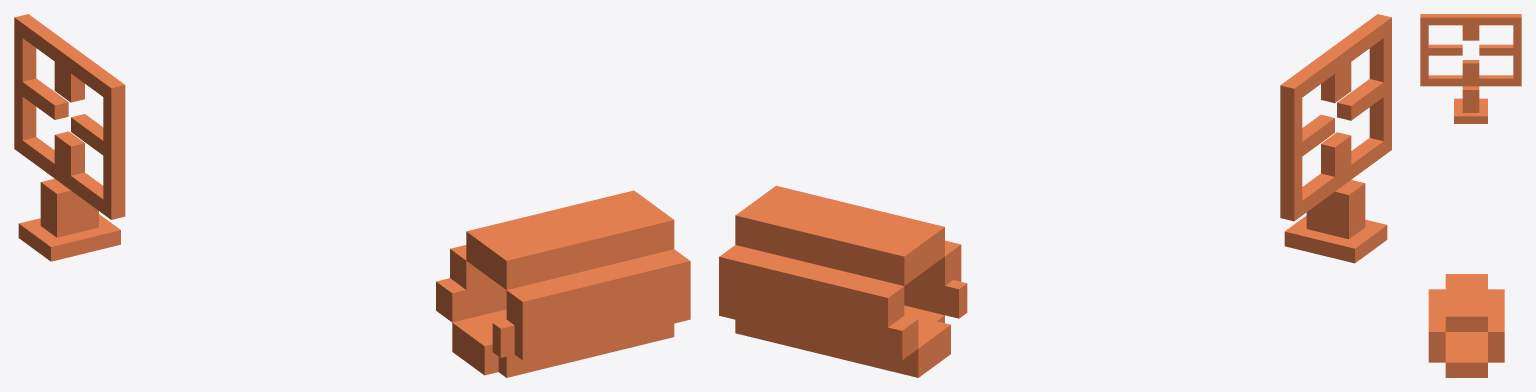
File: PistolaAgua-0.obj
3 views of the same model, side by side, from view 1: azimuth 30°, elevation 25°; view 2: azimuth 150°, elevation 25°; view 3: azimuth 270°, elevation 25° (orthographic). The views are drawn at different scales.
Bounding box in the file's own units: 4.4 × 2.8 × 1.2.
1 material, 1 textured.
